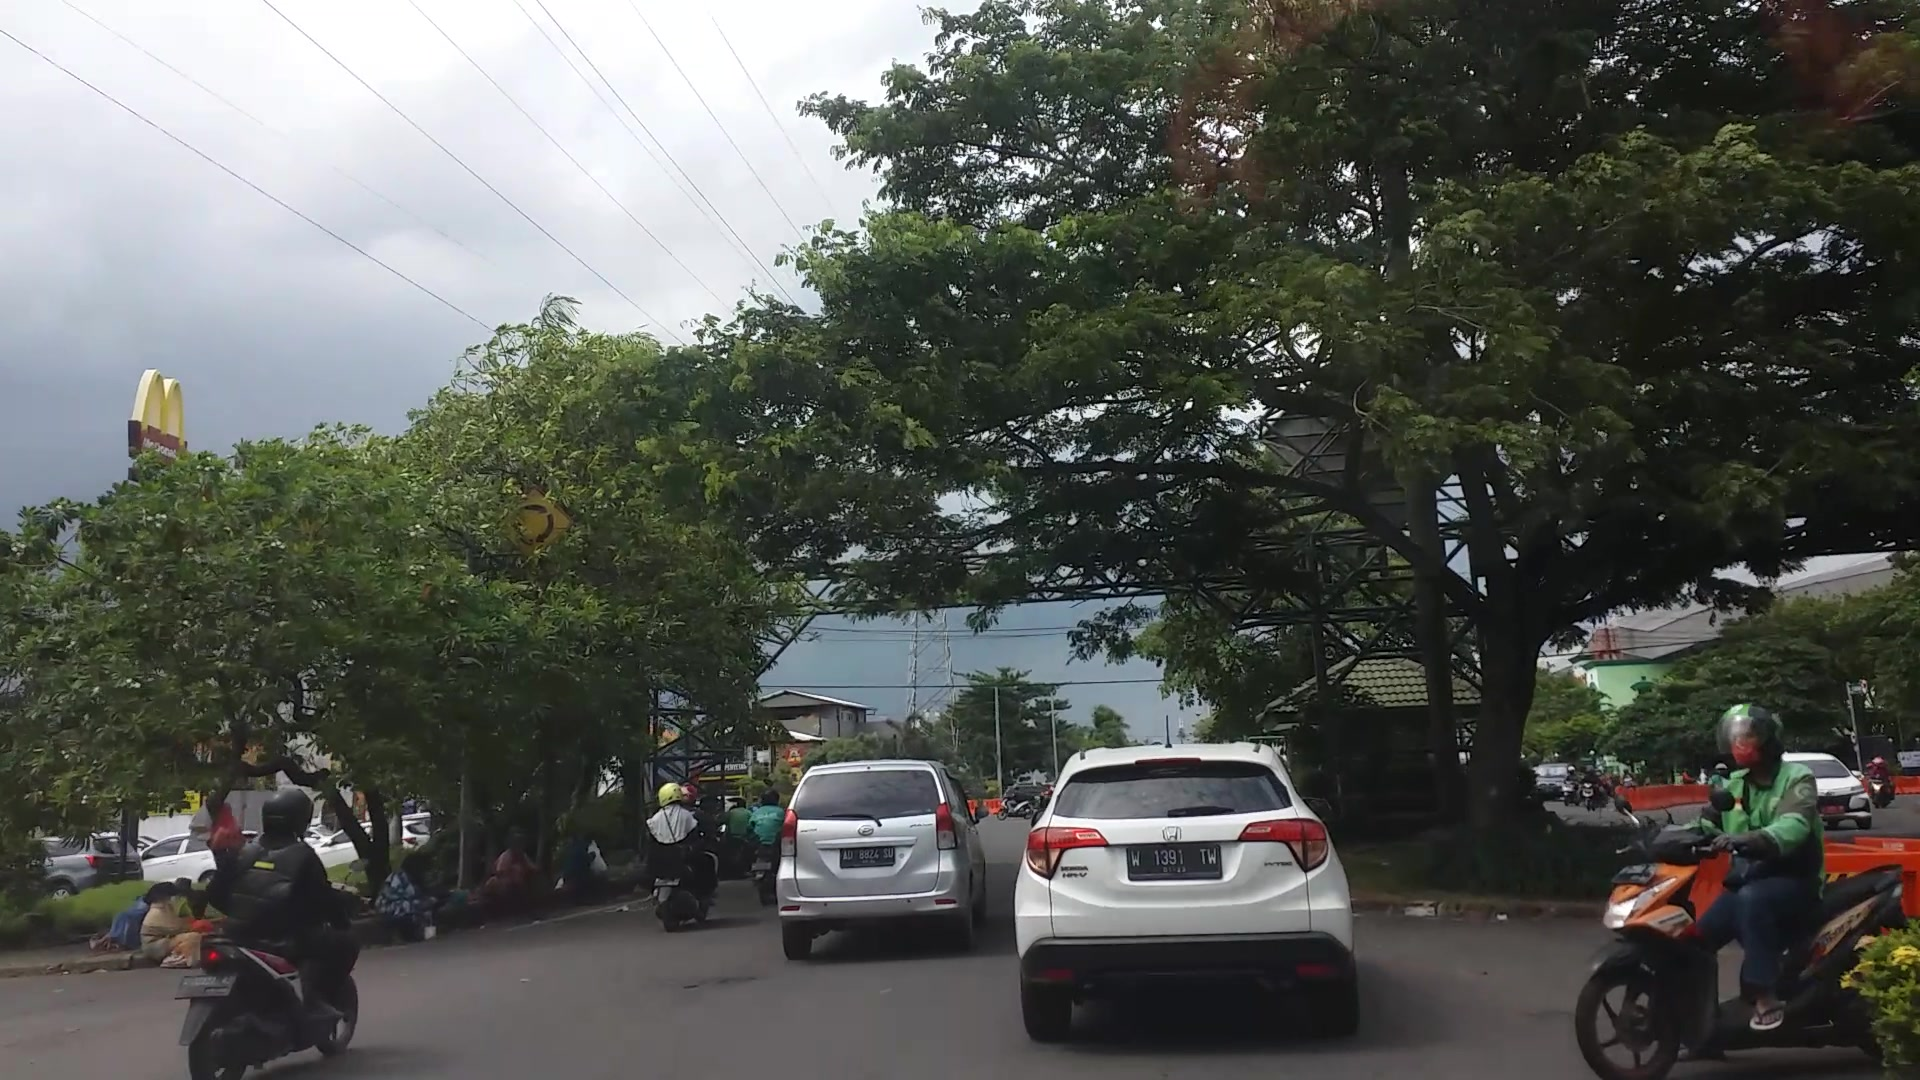plate_positive: (1127, 845, 1222, 880), (837, 847, 895, 868)
